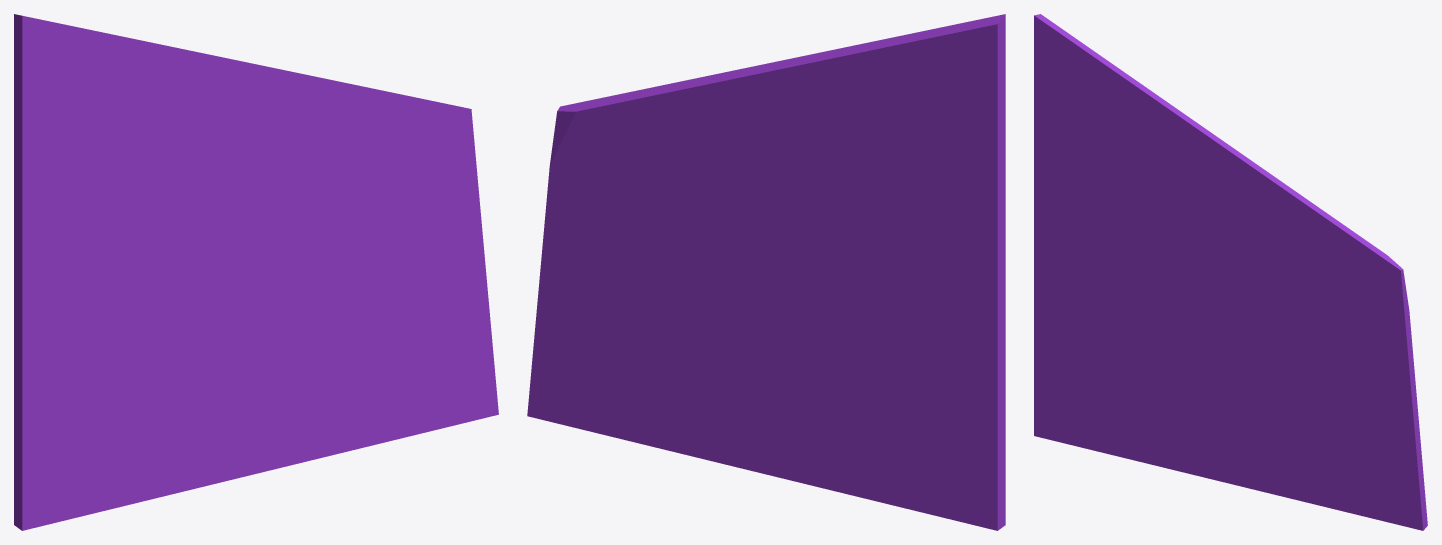
Rendered from Glass_6_0_chunks.fbx.
The picture shows the model from 3 angles, left to right: view 1: azimuth 30°, elevation 25°; view 2: azimuth 150°, elevation 25°; view 3: azimuth 330°, elevation 25°; orthographic projection. The views are drawn at different scales.
Visible parts, largest first — view 1: Glass_6_0_0, Glass_6_0_4, Glass_6_0_9, Glass_6_0_2, Glass_6_0_6, Glass_6_0_11, Glass_6_0_13, Glass_6_0_15, Glass_6_0_14, Glass_6_0_17, Glass_6_0_10, Glass_6_0_5 (+4 smaller); view 2: Glass_6_0_4, Glass_6_0_9, Glass_6_0_1, Glass_6_0_14, Glass_6_0_6, Glass_6_0_11, Glass_6_0_17, Glass_6_0_0, Glass_6_0_15, Glass_6_0_2, Glass_6_0_3, Glass_6_0_12 (+6 smaller); view 3: Glass_6_0_0, Glass_6_0_4, Glass_6_0_9, Glass_6_0_2, Glass_6_0_6, Glass_6_0_11, Glass_6_0_13, Glass_6_0_15, Glass_6_0_17, Glass_6_0_14, Glass_6_0_10, Glass_6_0_5 (+4 smaller).
Boxes of the visible parts, x1=… form: Glass_6_0_0: x1=290, y1=74, x2=488, y2=296; Glass_6_0_4: x1=287, y1=254, x2=498, y2=443; Glass_6_0_9: x1=14, y1=259, x2=179, y2=477; Glass_6_0_2: x1=183, y1=54, x2=303, y2=243; Glass_6_0_6: x1=75, y1=246, x2=324, y2=431; Glass_6_0_11: x1=14, y1=142, x2=183, y2=300; Glass_6_0_13: x1=21, y1=15, x2=192, y2=144; Glass_6_0_15: x1=14, y1=401, x2=179, y2=530; Glass_6_0_14: x1=14, y1=14, x2=114, y2=206; Glass_6_0_17: x1=174, y1=376, x2=315, y2=479; Glass_6_0_10: x1=86, y1=197, x2=216, y2=282; Glass_6_0_5: x1=266, y1=356, x2=377, y2=458; Glass_6_0_4: x1=527, y1=253, x2=743, y2=452; Glass_6_0_9: x1=834, y1=253, x2=1005, y2=477; Glass_6_0_1: x1=591, y1=78, x2=731, y2=271; Glass_6_0_14: x1=882, y1=15, x2=1005, y2=214; Glass_6_0_6: x1=701, y1=247, x2=936, y2=425; Glass_6_0_11: x1=841, y1=150, x2=1005, y2=304; Glass_6_0_17: x1=678, y1=369, x2=846, y2=480; Glass_6_0_0: x1=538, y1=72, x2=726, y2=288; Glass_6_0_15: x1=844, y1=398, x2=1005, y2=530; Glass_6_0_2: x1=719, y1=52, x2=822, y2=161; Glass_6_0_3: x1=725, y1=152, x2=838, y2=253; Glass_6_0_12: x1=808, y1=49, x2=886, y2=203; Glass_6_0_0: x1=1253, y1=175, x2=1418, y2=429; Glass_6_0_4: x1=1250, y1=331, x2=1427, y2=530; Glass_6_0_9: x1=1034, y1=240, x2=1162, y2=392; Glass_6_0_2: x1=1166, y1=120, x2=1269, y2=308; Glass_6_0_6: x1=1077, y1=310, x2=1280, y2=406; Glass_6_0_11: x1=1034, y1=157, x2=1166, y2=247; Glass_6_0_13: x1=1034, y1=15, x2=1173, y2=165; Glass_6_0_15: x1=1034, y1=376, x2=1162, y2=441; Glass_6_0_17: x1=1158, y1=393, x2=1273, y2=494; Glass_6_0_14: x1=1034, y1=14, x2=1109, y2=164; Glass_6_0_10: x1=1087, y1=227, x2=1192, y2=295; Glass_6_0_5: x1=1233, y1=398, x2=1323, y2=506.
Size of the model in its own units: 919 by 949 by 27.2.
